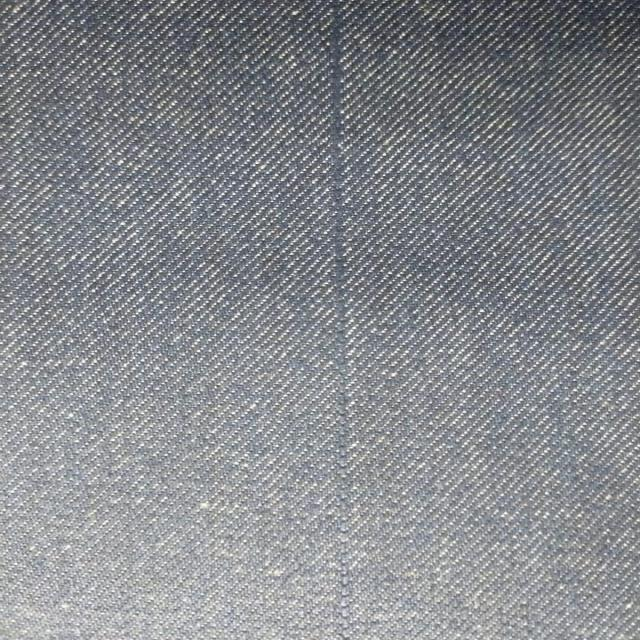Line: (329, 1, 350, 640)
